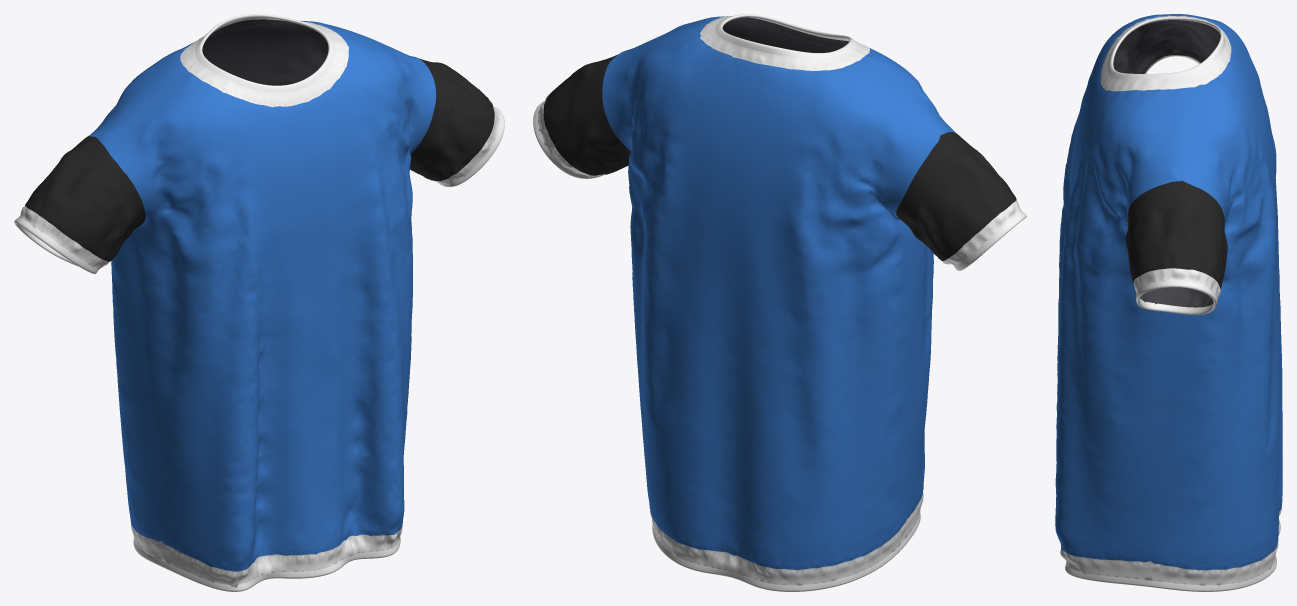
The model's file is smash.glb.
The picture shows the model from 3 angles, left to right: view 1: azimuth 30°, elevation 25°; view 2: azimuth 150°, elevation 25°; view 3: azimuth 270°, elevation 25°; orthographic projection.
Visible parts, largest first — view 1: Jersey; view 2: Jersey; view 3: Jersey.
Boxes of the visible parts, x1,y1,x2,y2 form: Jersey: (14, 14, 504, 591); Jersey: (533, 14, 1026, 591); Jersey: (1055, 14, 1282, 591).
Size of the model in its own units: 2.57 by 2.64 by 1.06.
